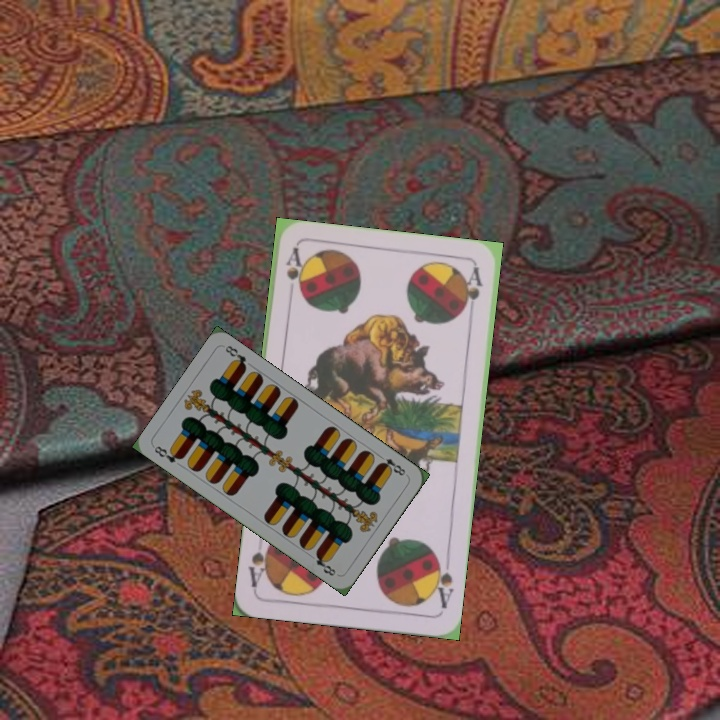E8: (374, 450, 408, 478), (150, 442, 185, 466)
SA: (428, 552, 456, 611), (281, 244, 305, 296)
